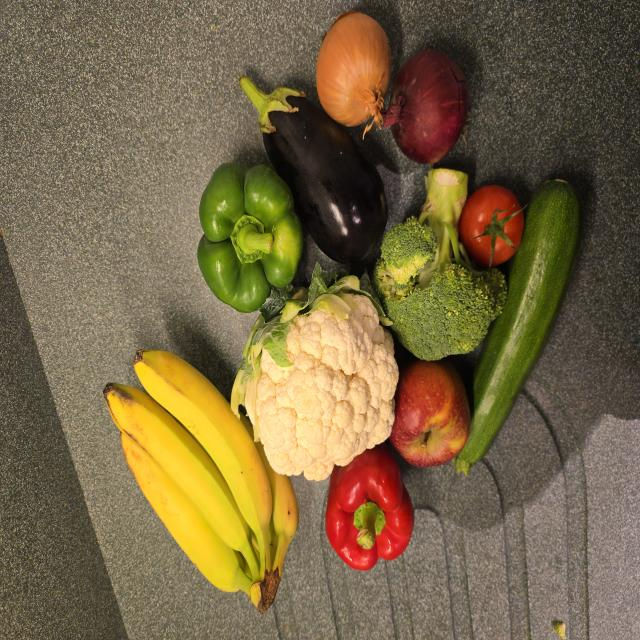Apple: (389, 359, 470, 467)
Banana: (104, 351, 299, 614)
Bell Pepper: (198, 164, 304, 313), (326, 443, 414, 570)
Broccoli: (373, 168, 506, 360)
Cauliflower: (231, 268, 399, 480)
Courgette: (454, 180, 581, 474)
Eggplant: (239, 74, 388, 264)
Onion: (382, 49, 468, 164), (316, 11, 391, 129)
Tomato: (458, 185, 524, 267)
